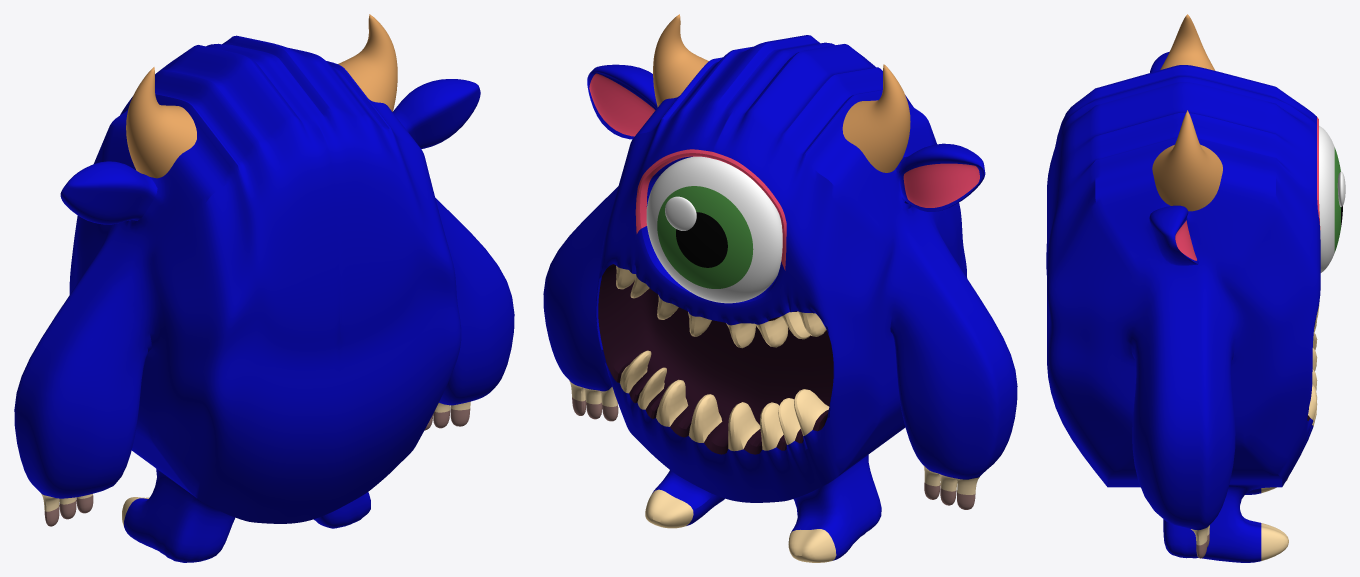
Rendered from Blue Cyclops.fbx.
3 views of the same model, side by side, from view 1: azimuth 30°, elevation 25°; view 2: azimuth 150°, elevation 25°; view 3: azimuth 270°, elevation 25° (orthographic). The views are drawn at different scales.
Visible parts, largest first — view 1: Cube; view 2: Cube; view 3: Cube.
Boxes of the visible parts, x1=… form: Cube: x1=14, y1=14, x2=514, y2=562; Cube: x1=543, y1=14, x2=1017, y2=562; Cube: x1=1046, y1=14, x2=1345, y2=562.
Size of the model in its own units: 383 by 385 by 227.
